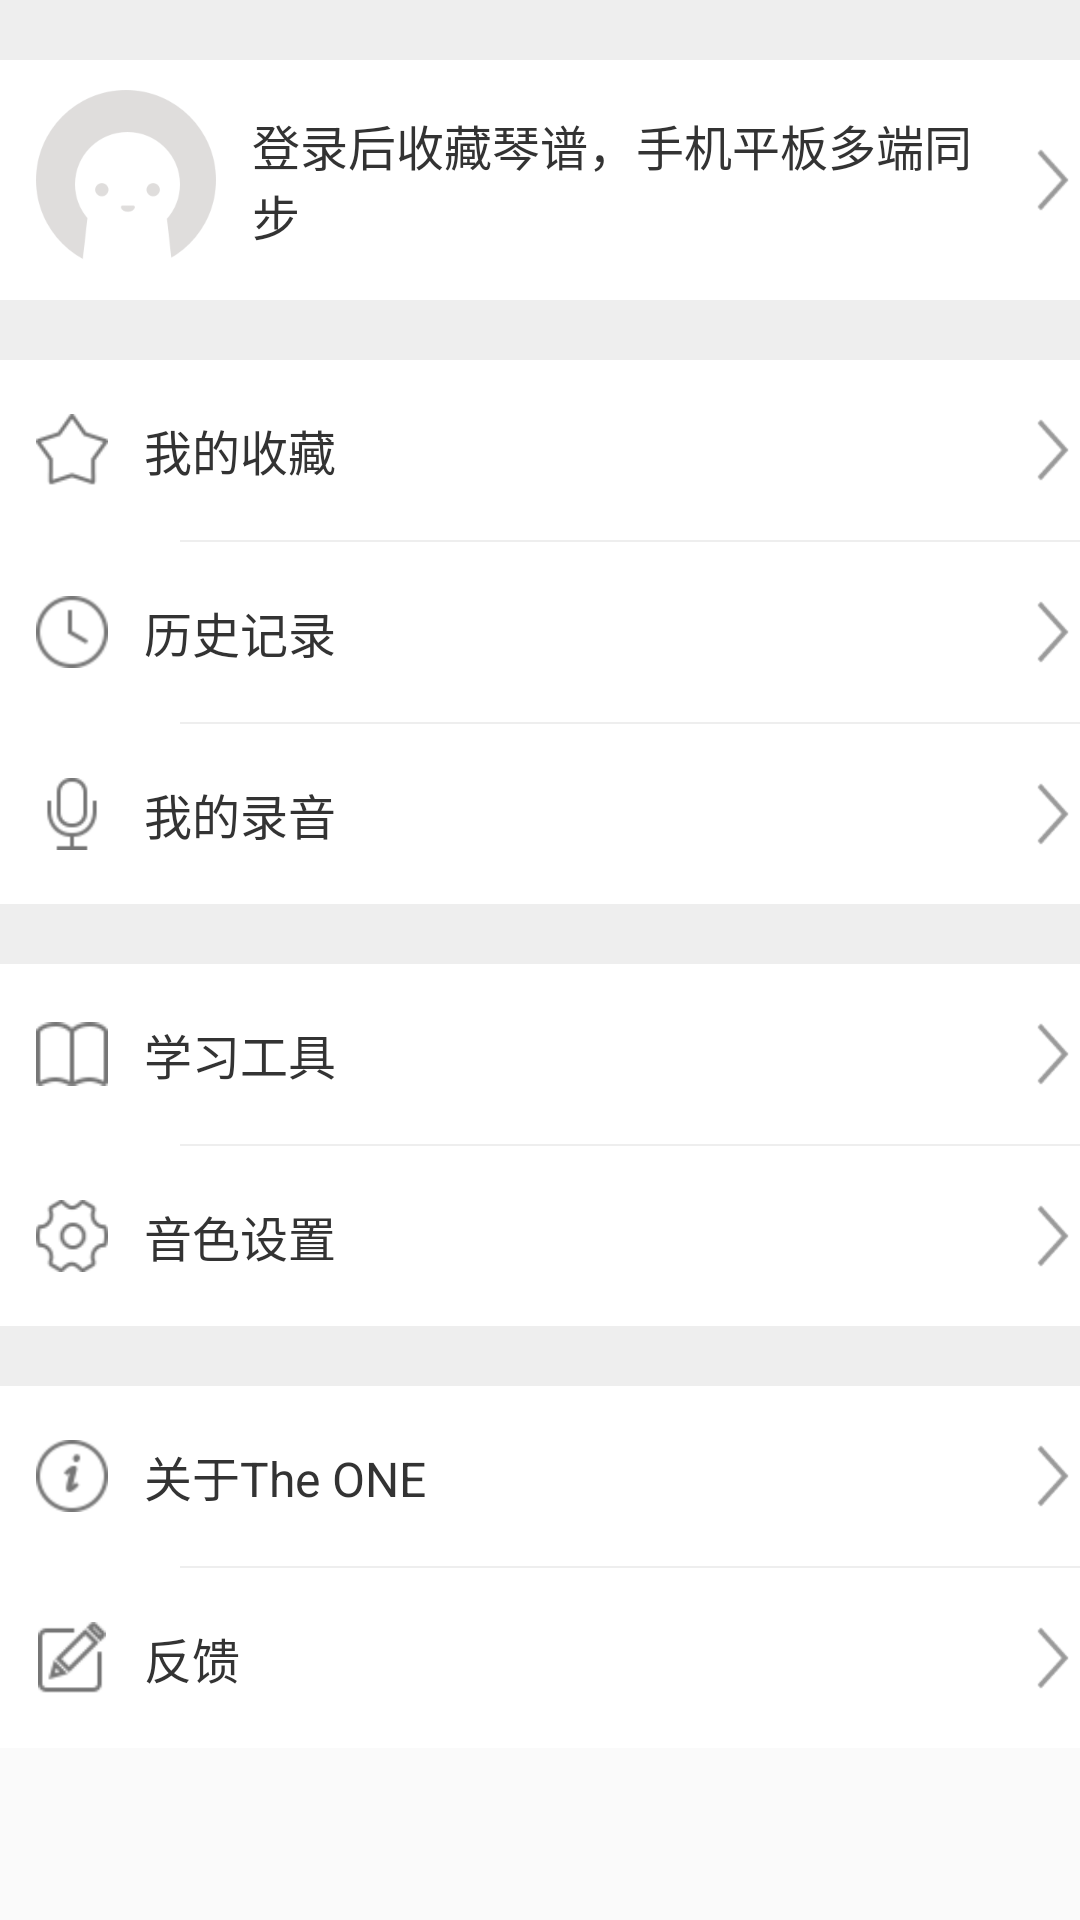

Screen size 1080x1920. Icon name, then its box in pixels as (x1, y1, x2, y2):
about: (36, 1440, 108, 1512)
favorite: (36, 414, 108, 485)
feedback: (38, 1622, 106, 1693)
head: (36, 90, 216, 258)
history: (36, 596, 108, 668)
music setting: (36, 1200, 108, 1272)
record: (47, 778, 97, 850)
study tools: (36, 1022, 108, 1086)
